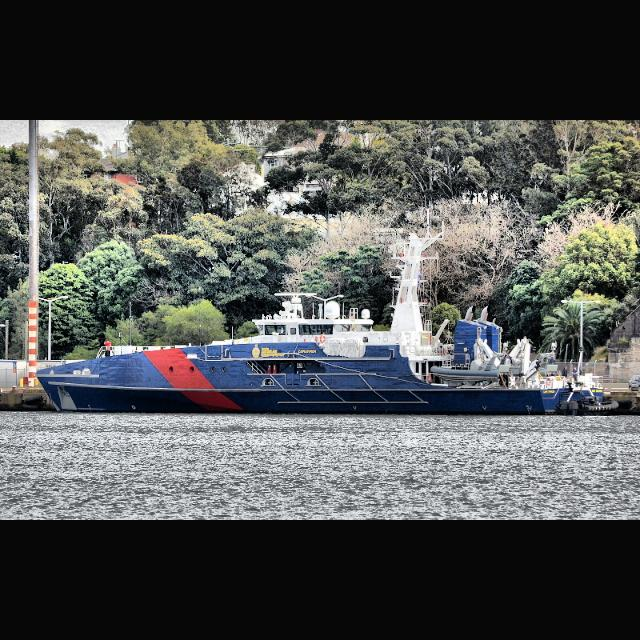patrol_vessel: (34, 223, 618, 413)
